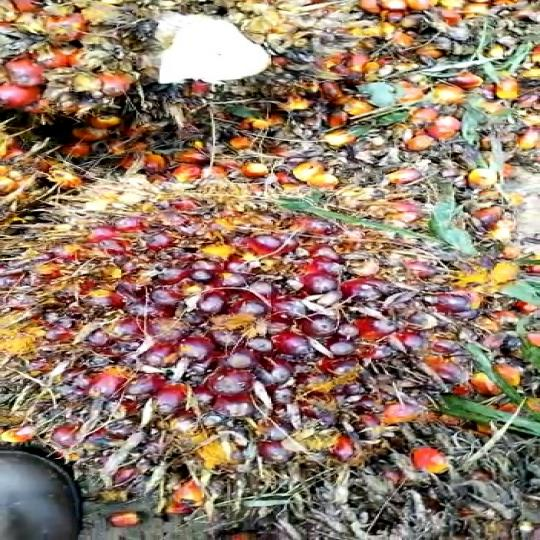masak: (0, 161, 540, 501)
